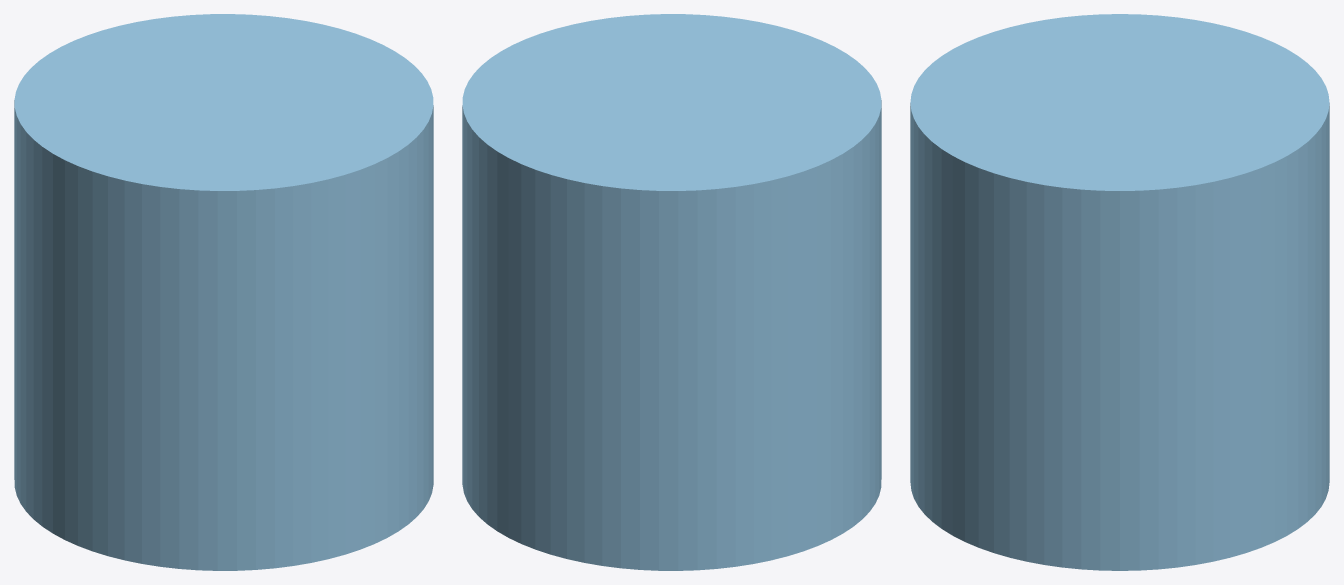
File: Sensor.dae
3 renders of one model, left to right at view 1: azimuth 30°, elevation 25°; view 2: azimuth 150°, elevation 25°; view 3: azimuth 270°, elevation 25°, orthographic.
Parts seen in each view (by area): view 1: 5df9328dfe0f4912a115f4b4; view 2: 5df9328dfe0f4912a115f4b4; view 3: 5df9328dfe0f4912a115f4b4.
Boxes of the visible parts, x1=… form: 5df9328dfe0f4912a115f4b4: x1=14, y1=14, x2=433, y2=570; 5df9328dfe0f4912a115f4b4: x1=462, y1=14, x2=881, y2=570; 5df9328dfe0f4912a115f4b4: x1=910, y1=14, x2=1329, y2=570.
Bounding box in the file's own units: 0.01 × 0.01 × 0.01.
